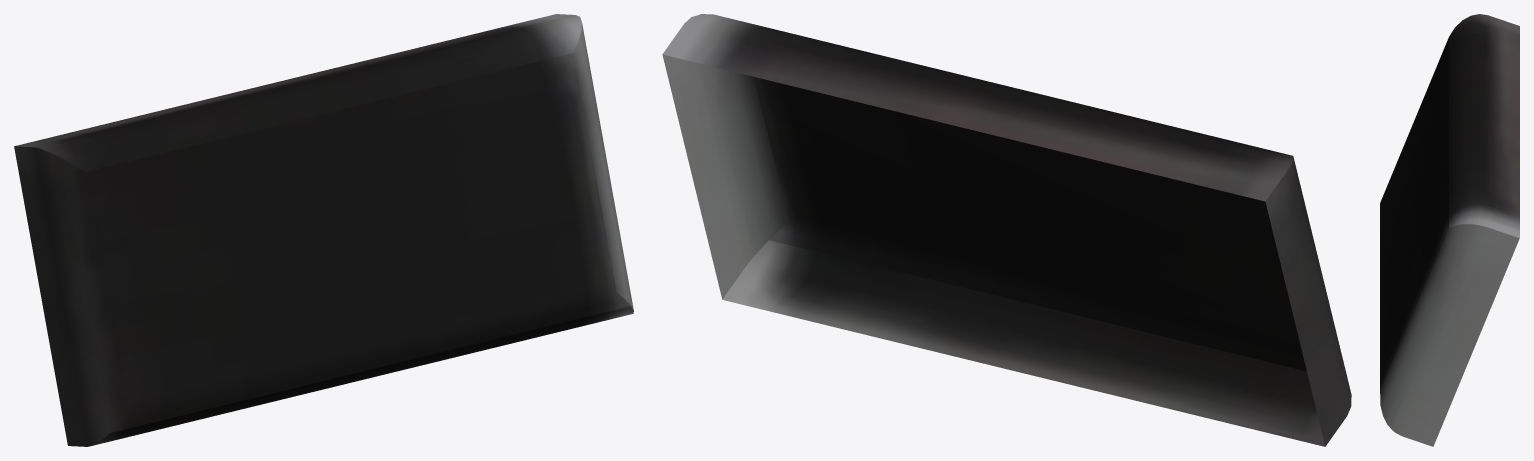
The model's file is link_4__button-5.glb.
3 views of the same model, side by side, from view 1: azimuth 30°, elevation 25°; view 2: azimuth 150°, elevation 25°; view 3: azimuth 270°, elevation 25° (orthographic). The views are drawn at different scales.
Visible parts, largest first — view 1: world; view 2: world; view 3: world.
Boxes of the visible parts, box(x1,y1,x2,y2) form: world: box(14, 14, 633, 446); world: box(662, 14, 1351, 446); world: box(1380, 14, 1519, 446).
Size of the model in its own units: 0.0354 by 0.0172 by 0.00985.
1 material, 1 textured.
